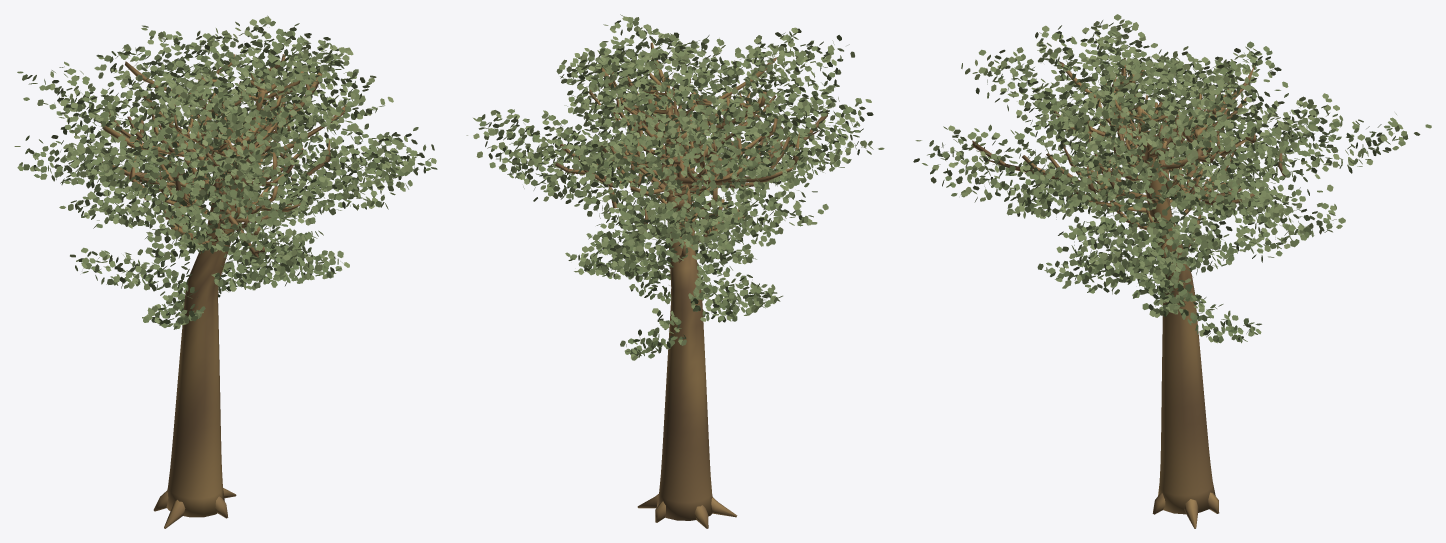
Rendered from open_green_lod1.glb.
The picture shows the model from 3 angles, left to right: view 1: azimuth 30°, elevation 25°; view 2: azimuth 150°, elevation 25°; view 3: azimuth 270°, elevation 25°; orthographic projection. The views are drawn at different scales.
Visible parts, largest first — view 1: Leaves.007, Trunk.007; view 2: Leaves.007, Trunk.007; view 3: Leaves.007, Trunk.007.
Boxes of the visible parts, x1,y1,x2,y2 form: Leaves.007: [14, 15, 437, 329]; Trunk.007: [101, 54, 346, 528]; Leaves.007: [466, 14, 884, 360]; Trunk.007: [555, 42, 827, 528]; Leaves.007: [913, 14, 1431, 343]; Trunk.007: [972, 58, 1285, 528].
Size of the model in its own units: 4.78 by 5.74 by 5.79.
